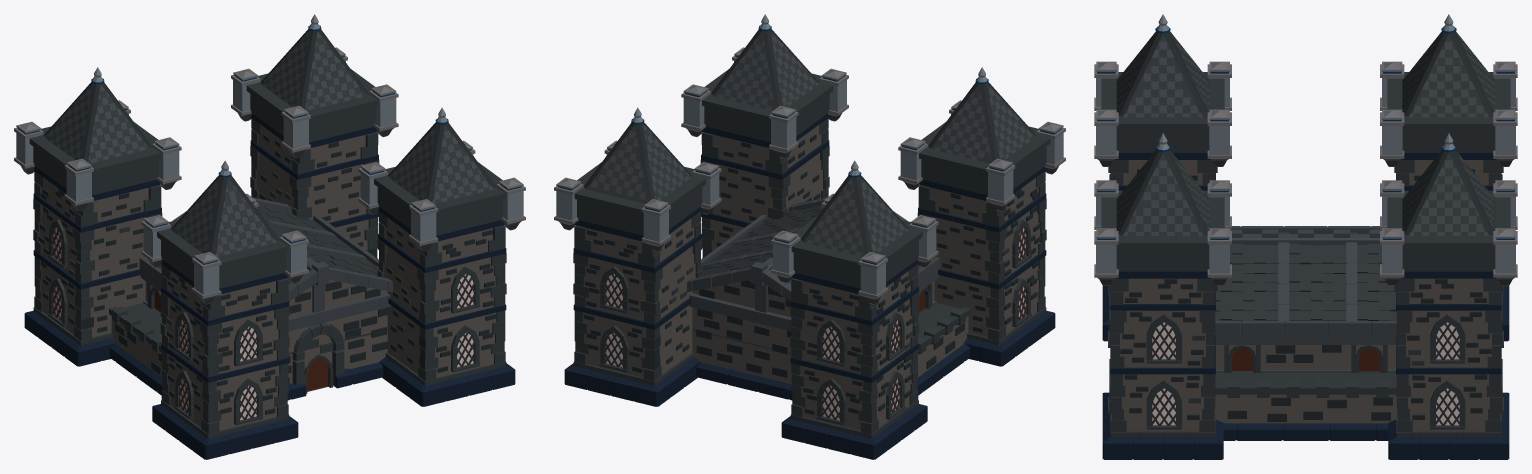
The model's file is SM_Hous_20_B.gltf.
3 views of the same model, side by side, from view 1: azimuth 30°, elevation 25°; view 2: azimuth 150°, elevation 25°; view 3: azimuth 270°, elevation 25° (orthographic). The views are drawn at different scales.
Visible parts, largest first — view 1: SM_Hous_20_B; view 2: SM_Hous_20_B; view 3: SM_Hous_20_B.
Boxes of the visible parts, x1,y1,x2,y2 form: SM_Hous_20_B: (14,14,525,459); SM_Hous_20_B: (554,14,1065,459); SM_Hous_20_B: (1094,14,1517,459).
Bounding box in the file's own units: 45.44 × 36.14 × 45.97.
